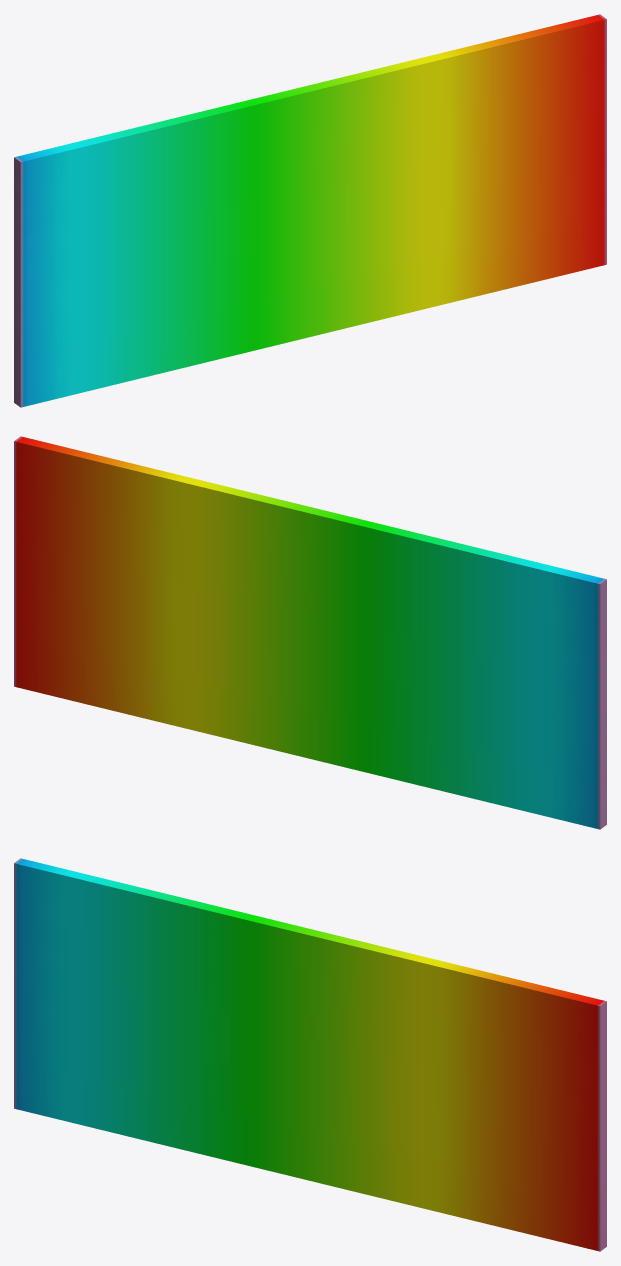
The model's file is beam_100-40-1.obj.
The picture shows the model from 3 angles, top to bottom: view 1: azimuth 30°, elevation 25°; view 2: azimuth 150°, elevation 25°; view 3: azimuth 330°, elevation 25°; orthographic projection.
Size of the model in its own units: 10 by 4 by 0.2.
